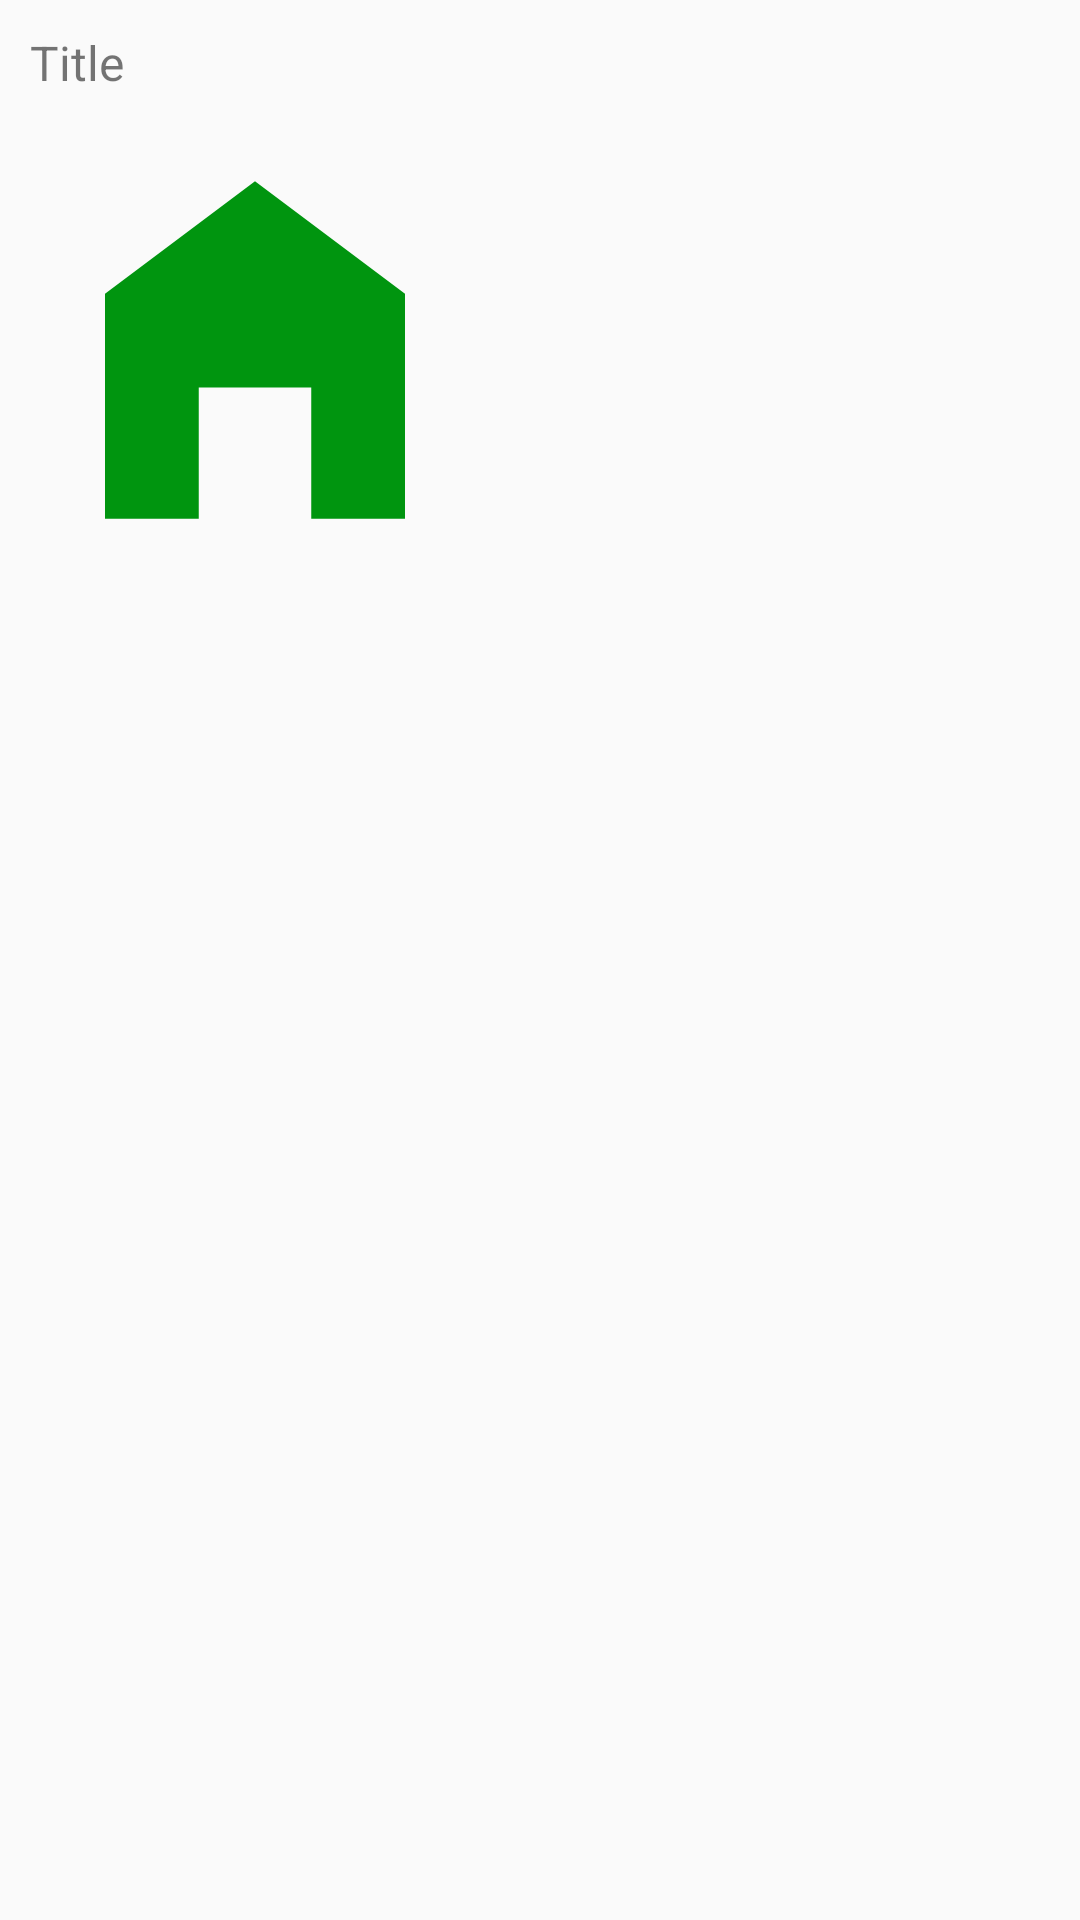

Screen size 1080×1920. Icon name, then its box in pixels as (x1, y1, x2, y2):
home: (105, 181, 405, 519)
